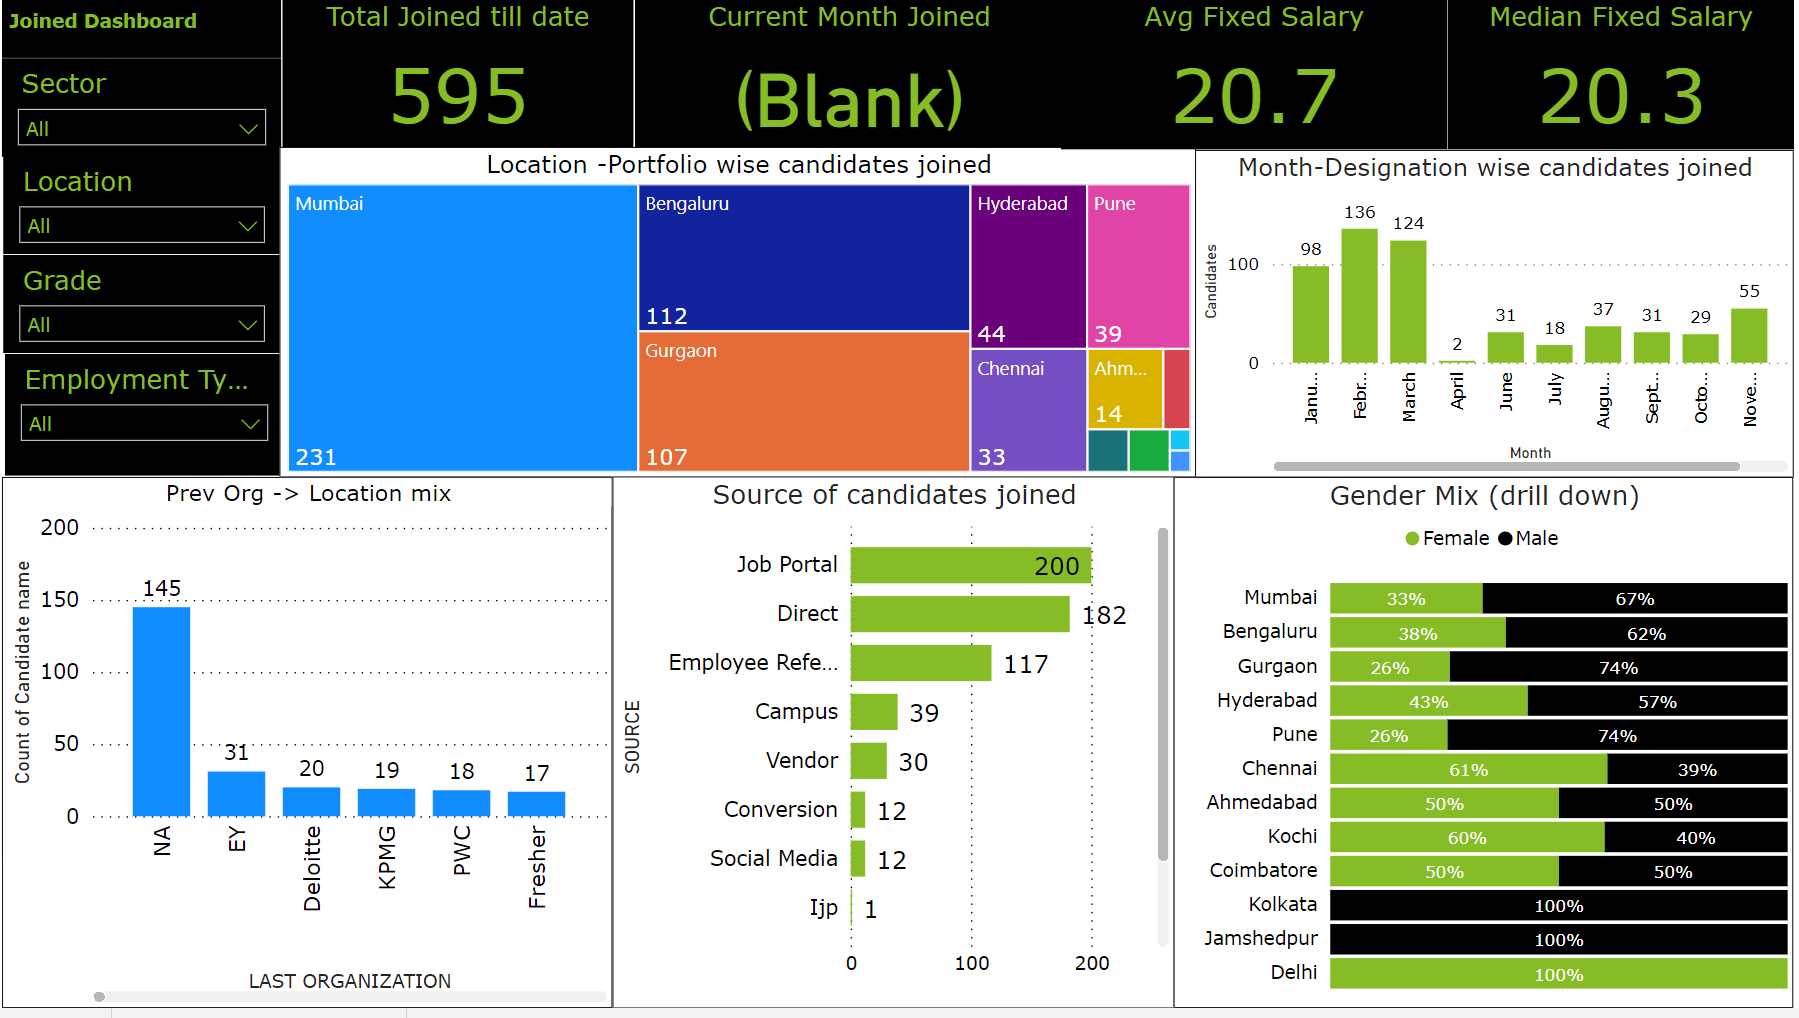

Layout of this report page (visuals, bound fields, positions):
{"tool":"powerbi","page":{"name":"Joined Board","canvas":[1280,720],"ordinal":1},"visuals":[{"type":"clusteredColumnChart","title":"Month-Designation wise candidates joined","fields":{"Category":["Date Table.Date.Variation.Date Hierarchy.Month","Recruitment Data.Grade"],"Y":["CountNonNull(Recruitment Data.Offered Candidate name)"]},"box":[852.2,106.9,427.8,233.9],"z":0},{"type":"hundredPercentStackedBarChart","title":"Gender Mix (drill down)","fields":{"Category":["Recruitment Data.Location","Recruitment Data.Grade","Recruitment Data.Portfolio Offering"],"Series":["Recruitment Data.Gender "],"Y":["CountNonNull(Recruitment Data.Gender )"]},"box":[837.2,340.9,442.8,379.3],"z":1000},{"type":"slicer","fields":{"Values":["Recruitment Data.Employment Type"]},"box":[1.7,252.3,198.9,86.9],"z":2000},{"type":"clusteredBarChart","title":"Source of candidates joined","fields":{"Category":["Recruitment Data.Recruitment Source","Recruitment Data.Sub Source"],"Y":["CountNonNull(Recruitment Data.Offered Candidate name)"]},"box":[436.1,339.2,401,381],"z":3000},{"type":"slicer","fields":{"Values":["Recruitment Data.Grade"]},"box":[1.6,182,198,70.2],"z":4000},{"type":"slicer","fields":{"Values":["Recruitment Data.Portfolio Offering"]},"box":[0,41.5,199.6,70.2],"z":5000},{"type":"card","title":"Total Joined till date","fields":{"Values":["Perm, FTC, Intern & Article.Candidate Count"]},"box":[200.5,0,250.7,106.9],"z":6000},{"type":"card","title":"Current Month Joined","fields":{"Values":["Perm, FTC, Intern & Article.Current Joined"]},"box":[451.8,0,306.5,107],"z":7000},{"type":"lineStackedColumnComboChart","title":"Prev Org -> Location mix","fields":{"Category":["Perm, FTC, Intern & Article. LAST ORGANIZATION","Recruitment Data.Location"],"Y":["CountNonNull(Recruitment Data.Offered Candidate name)"]},"box":[0,340.9,436.1,379.3],"z":8000},{"type":"slicer","fields":{"Values":["Recruitment Data.Location"]},"box":[1.6,111.8,198,70.2],"z":9000},{"type":"treemap","title":"Location -Portfolio wise candidates joined","fields":{"Group":["Recruitment Data.Location","Recruitment Data.Portfolio Offering"],"Values":["CountNonNull(Recruitment Data.Offered Candidate name)"]},"box":[198,105.4,654.5,236.3],"z":10000},{"type":"textbox","box":[0,0,199.6,41.5],"z":11000},{"type":"card","title":"Avg Fixed Salary","fields":{"Values":["Perm, FTC, Intern & Article.Offered Salary_L"]},"box":[756.7,0,276.2,107],"z":12000},{"type":"card","title":"Median Fixed Salary","fields":{"Values":["Perm, FTC, Intern & Article.Median Offered Salary"]},"box":[1032.5,0,247.5,107],"z":13000}]}

Visuals, with their boxes in screenshot pixels (x1, y1, x2, y2), scaled from the page's 1280x720 canvas onto the 1799x1018 screenshot:
"Month-Designation wise candidates joined" clusteredColumnChart: {"left": 1198, "top": 151, "right": 1798, "bottom": 482}
"Gender Mix (drill down)" hundredPercentStackedBarChart: {"left": 1177, "top": 482, "right": 1798, "bottom": 1017}
slicer - Recruitment Data.Employment Type: {"left": 2, "top": 357, "right": 282, "bottom": 480}
"Source of candidates joined" clusteredBarChart: {"left": 613, "top": 480, "right": 1177, "bottom": 1017}
slicer - Recruitment Data.Grade: {"left": 2, "top": 257, "right": 281, "bottom": 357}
slicer - Recruitment Data.Portfolio Offering: {"left": 0, "top": 59, "right": 281, "bottom": 158}
"Total Joined till date" card: {"left": 282, "top": 0, "right": 634, "bottom": 151}
"Current Month Joined" card: {"left": 635, "top": 0, "right": 1066, "bottom": 151}
"Prev Org -> Location mix" lineStackedColumnComboChart: {"left": 0, "top": 482, "right": 613, "bottom": 1017}
slicer - Recruitment Data.Location: {"left": 2, "top": 158, "right": 281, "bottom": 257}
"Location -Portfolio wise candidates joined" treemap: {"left": 278, "top": 149, "right": 1198, "bottom": 483}
textbox: {"left": 0, "top": 0, "right": 281, "bottom": 59}
"Avg Fixed Salary" card: {"left": 1064, "top": 0, "right": 1452, "bottom": 151}
"Median Fixed Salary" card: {"left": 1451, "top": 0, "right": 1798, "bottom": 151}
